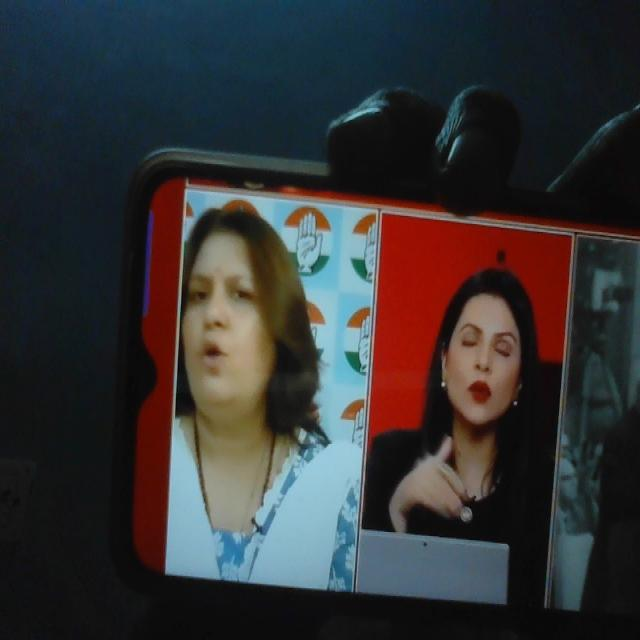fake: (176, 192, 297, 420)
